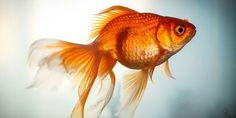goldfish: (44, 4, 202, 102)
